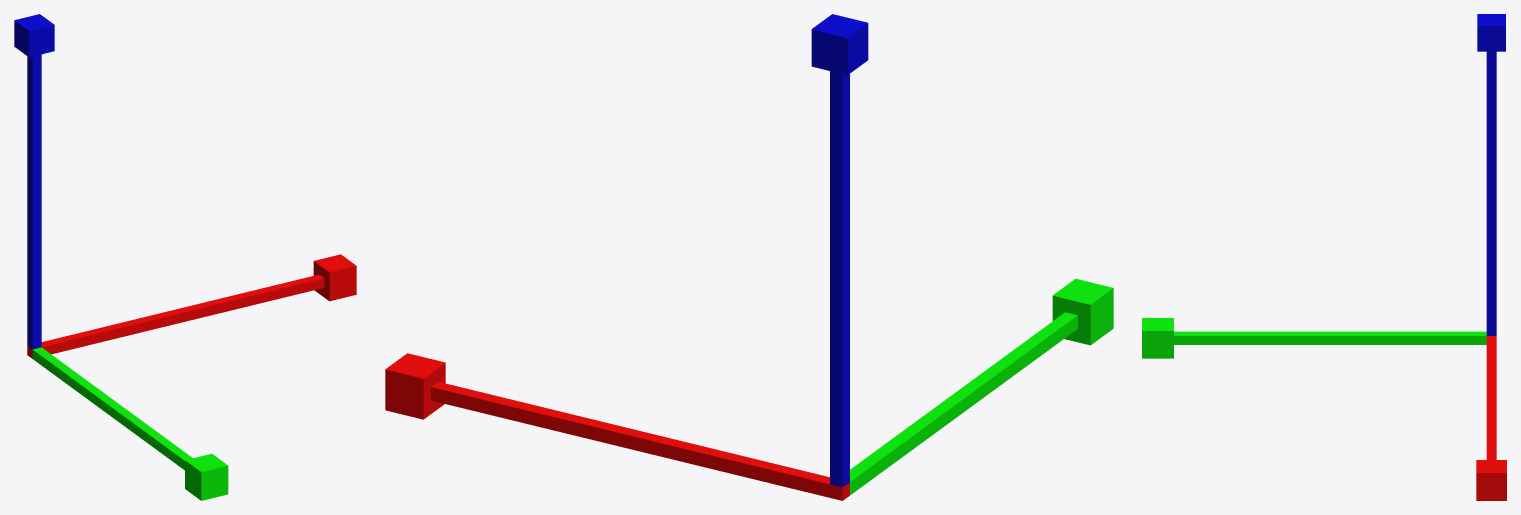
File: scale.glb
3 views of the same model, side by side, from view 1: azimuth 30°, elevation 25°; view 2: azimuth 150°, elevation 25°; view 3: azimuth 270°, elevation 25° (orthographic). The views are drawn at different scales.
Visible parts, largest first — view 1: Cube; view 2: Cube; view 3: Cube.
Part boxes in pixels (x1,y1,x2,y2): Cube: (14,14,356,500); Cube: (385,14,1113,500); Cube: (1142,14,1506,500).
Bounding box in the file's own units: 4.46 × 4.46 × 4.44.
